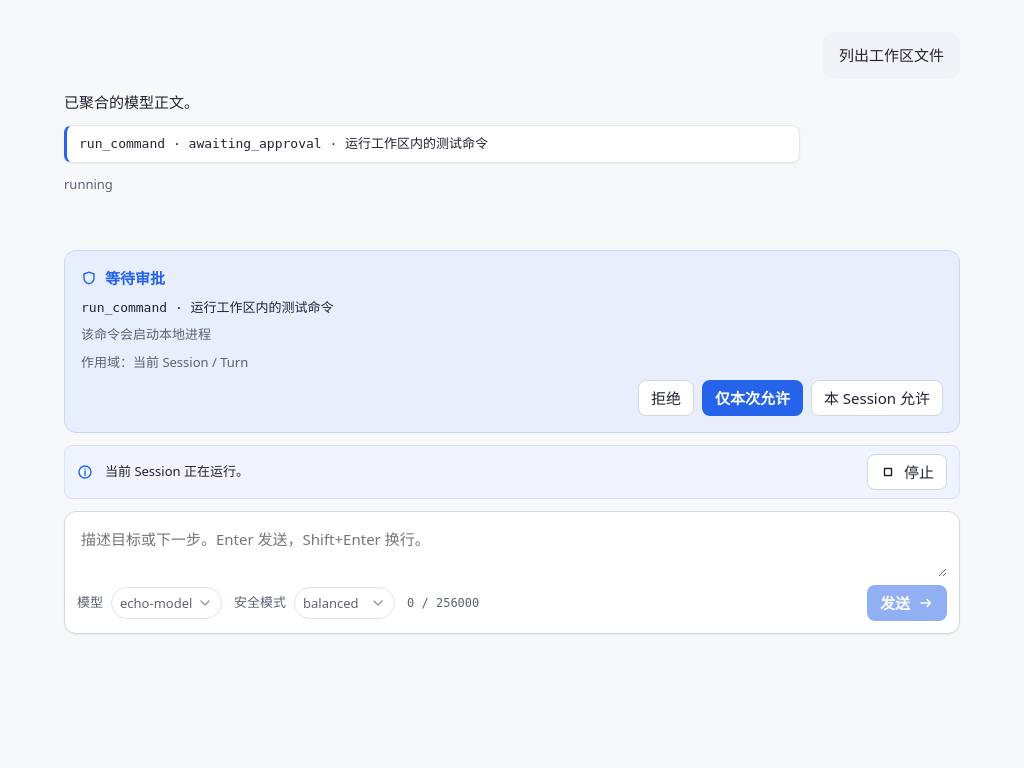
Test: Chat approval card › binds deny / once / session decisions and ignores a repeated click
Expected: the heading "等待审批" is shown, [81,268,165,288]
Click the button "仅本次允许".
click(752, 398)  # box [702,380,803,416]
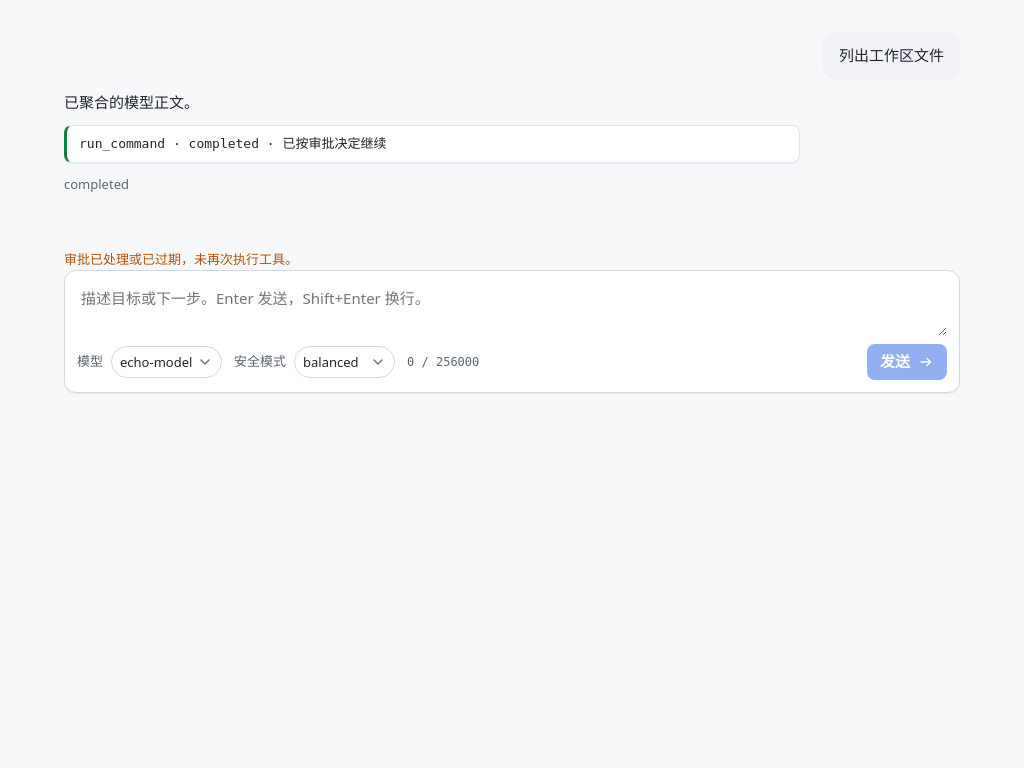
Now the text "run_command · completed · 已按审批决定继续" is shown, box [64,125,800,162]
Now the text "审批已处理或已过期，未再次执行工具。" is shown, box [64,250,298,268]
